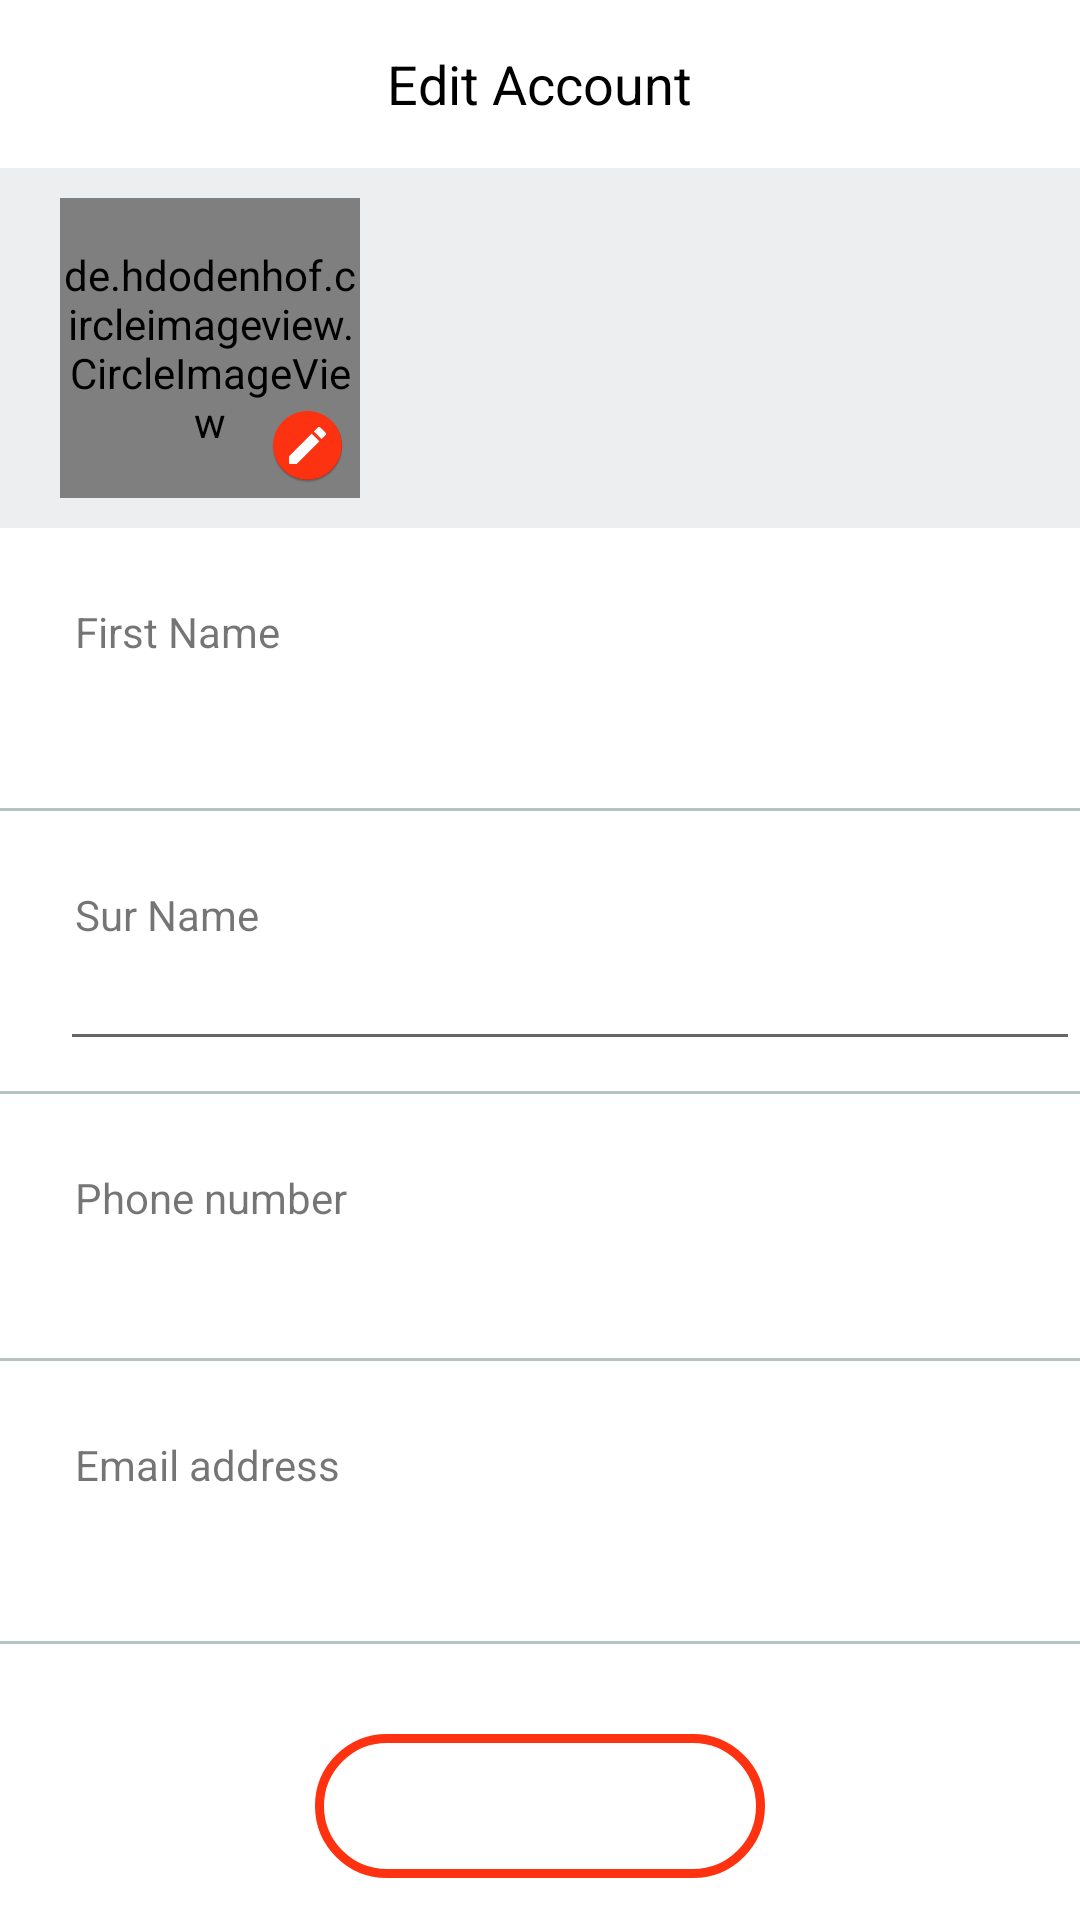

Screen size 1080×1920. Icon name, then its center in pixels as point (x, y):
edit iconnew: point (307, 446)
